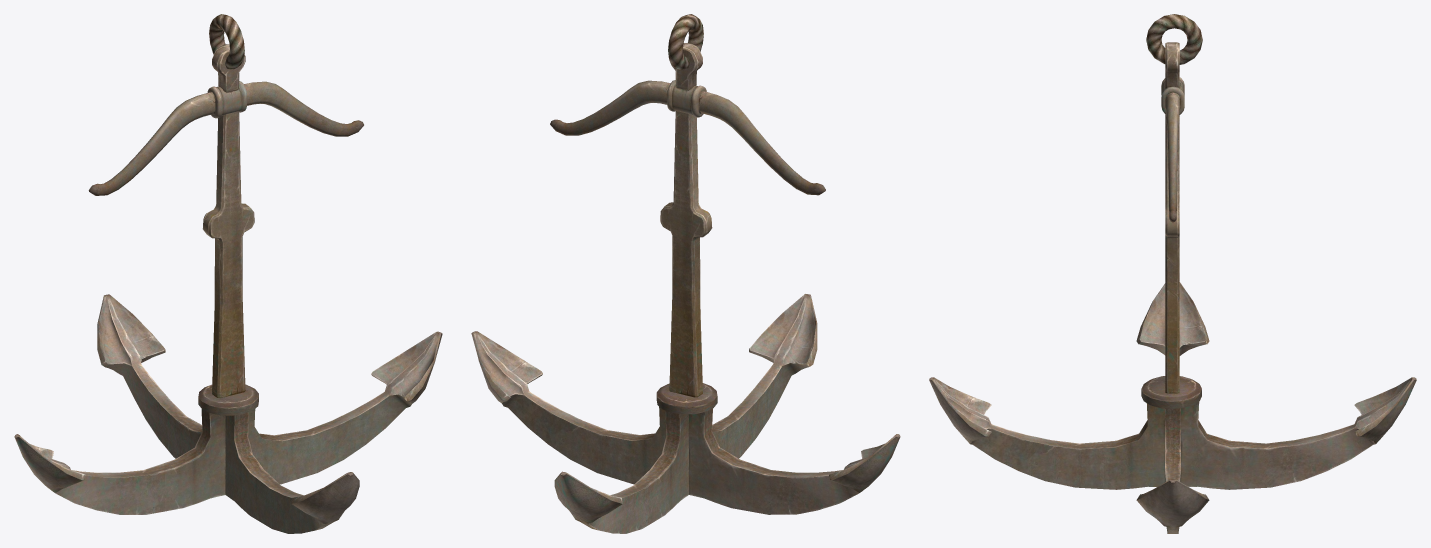
3 renders of one model, left to right at view 1: azimuth 30°, elevation 25°; view 2: azimuth 150°, elevation 25°; view 3: azimuth 270°, elevation 25°, orthographic.
Parts seen in each view (by area): view 1: Anchor4; view 2: Anchor4; view 3: Anchor4.
Boxes of the visible parts, x1,y1,x2,y2 form: Anchor4: (14,14,442,533); Anchor4: (471,14,900,533); Anchor4: (929,14,1416,533).
Bounding box in the file's own units: 3.02 × 3.02 × 3.23.
Materials: 1 (1 with a texture image).
